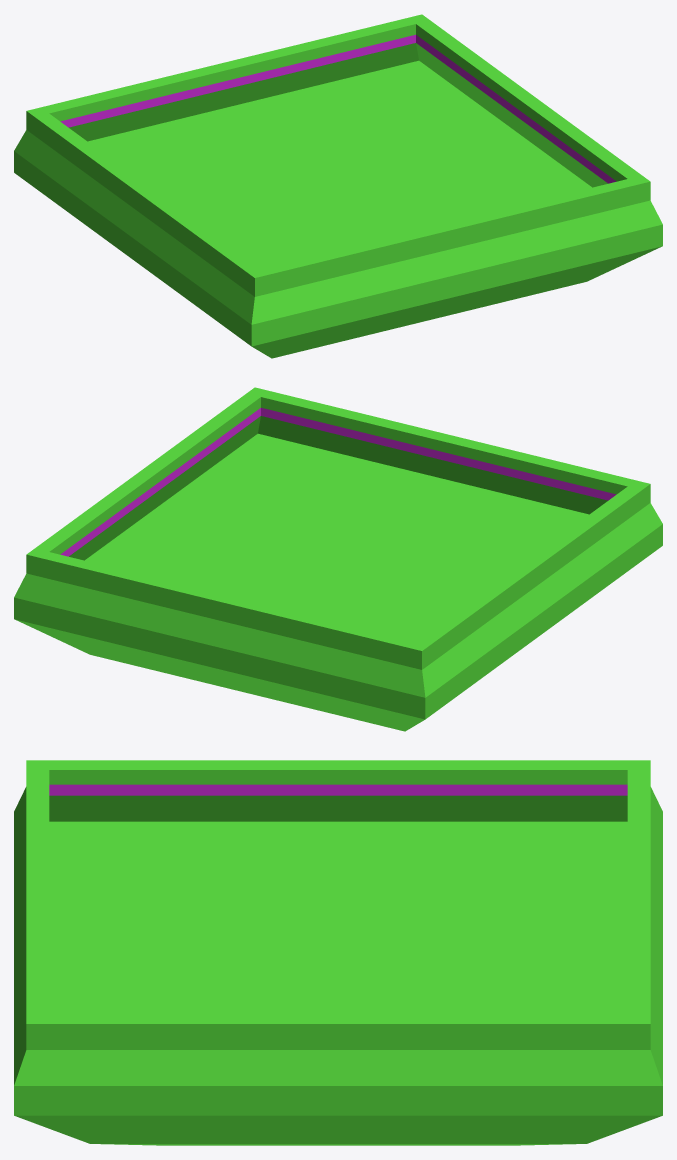
File: central_island.fbx
The picture shows the model from 3 angles, top to bottom: view 1: azimuth 30°, elevation 25°; view 2: azimuth 150°, elevation 25°; view 3: azimuth 270°, elevation 25°; orthographic projection. The views are drawn at different scales.
Parts seen in each view (by area): view 1: Central Island; view 2: Central Island; view 3: Central Island.
Boxes of the visible parts, x1,y1,x2,y2 form: Central Island: (14, 14, 662, 358); Central Island: (14, 387, 662, 731); Central Island: (14, 760, 662, 1145).
Bounding box in the file's own units: 600 × 209 × 600.
